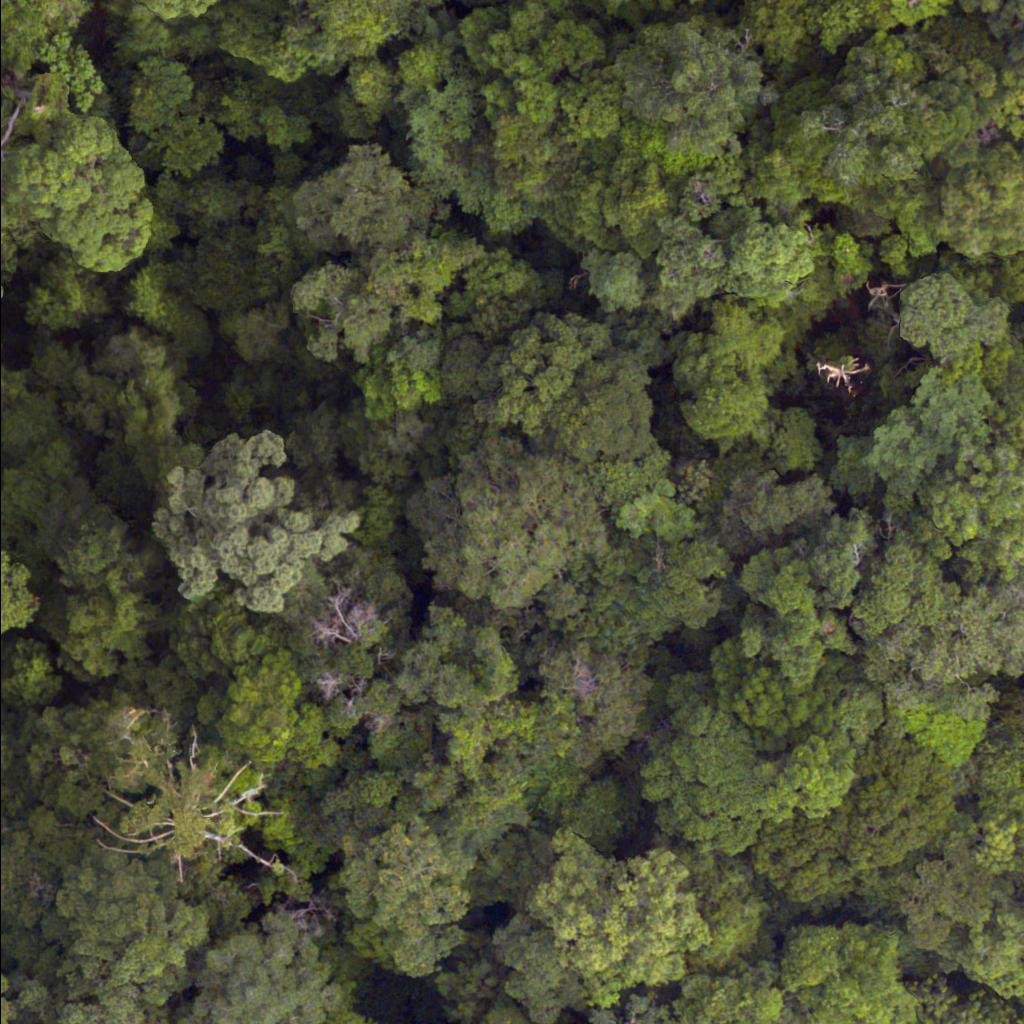crown: (288, 549, 507, 771), (163, 426, 372, 624), (426, 420, 606, 626), (83, 713, 286, 894), (839, 545, 1023, 724), (764, 731, 944, 894), (172, 612, 342, 780), (31, 853, 198, 1019), (788, 32, 963, 181), (637, 685, 767, 865), (182, 889, 353, 1023), (616, 22, 770, 170), (341, 816, 472, 983), (13, 122, 150, 280), (668, 309, 787, 450), (784, 917, 913, 1023), (892, 273, 1014, 372), (937, 131, 1023, 264), (657, 976, 805, 1023), (896, 979, 1023, 1023), (0, 549, 39, 636), (143, 0, 231, 26), (517, 1011, 666, 1023), (1013, 669, 1023, 702)
